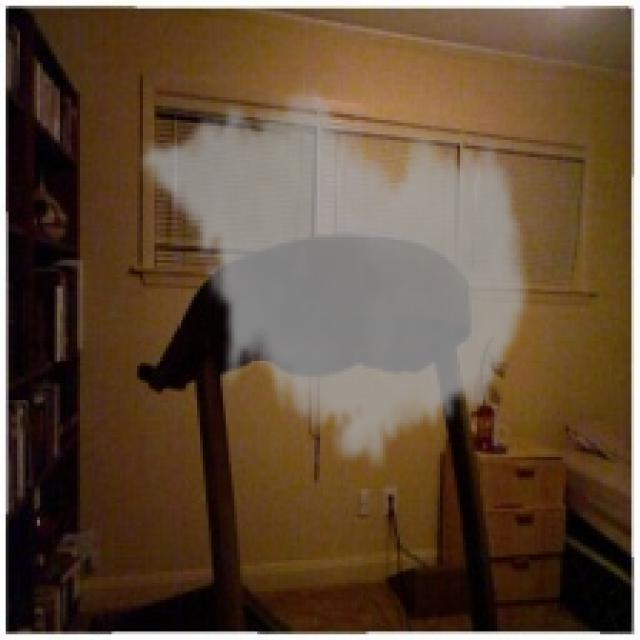Smoke: (137, 77, 534, 474)
